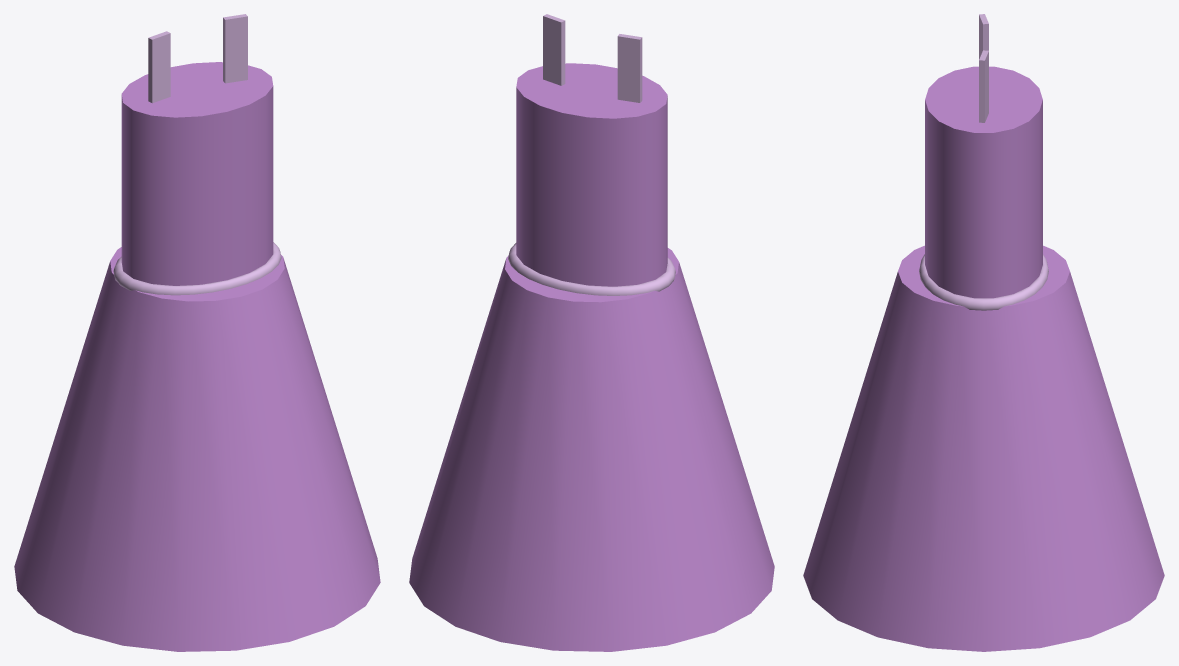
Rendered from VM-NIN-009.glb.
The picture shows the model from 3 angles, left to right: view 1: azimuth 30°, elevation 25°; view 2: azimuth 150°, elevation 25°; view 3: azimuth 270°, elevation 25°; orthographic projection.
Visible parts, largest first — view 1: Conjunto Niña + Moño; view 2: Conjunto Niña + Moño; view 3: Conjunto Niña + Moño.
Boxes of the visible parts, x1,y1,x2,y2 form: Conjunto Niña + Moño: (14, 14, 380, 651); Conjunto Niña + Moño: (409, 14, 774, 651); Conjunto Niña + Moño: (803, 14, 1164, 651).
Size of the model in its own units: 0.5052 by 0.8299 by 0.5052.
